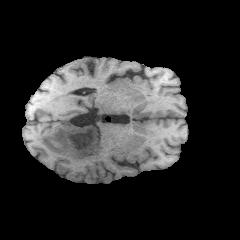glioma: (38, 125, 101, 161)
